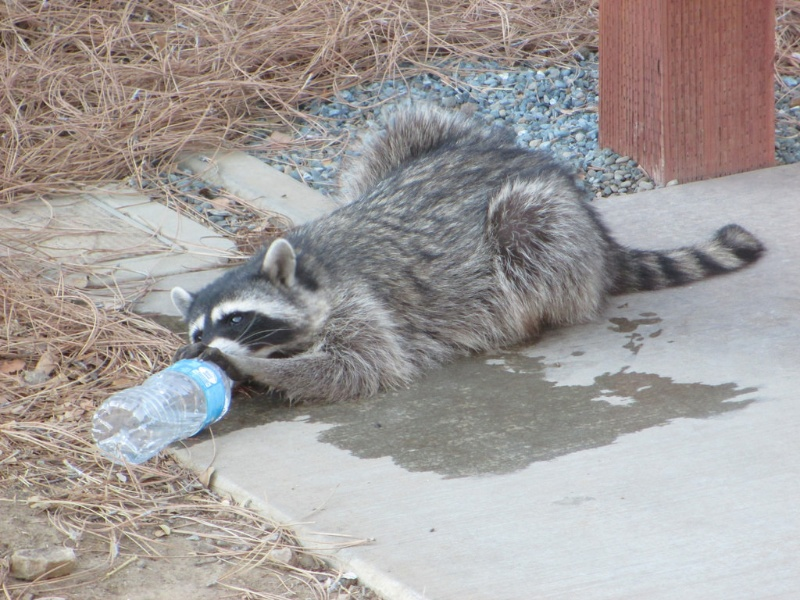raccoon: (179, 101, 769, 450)
